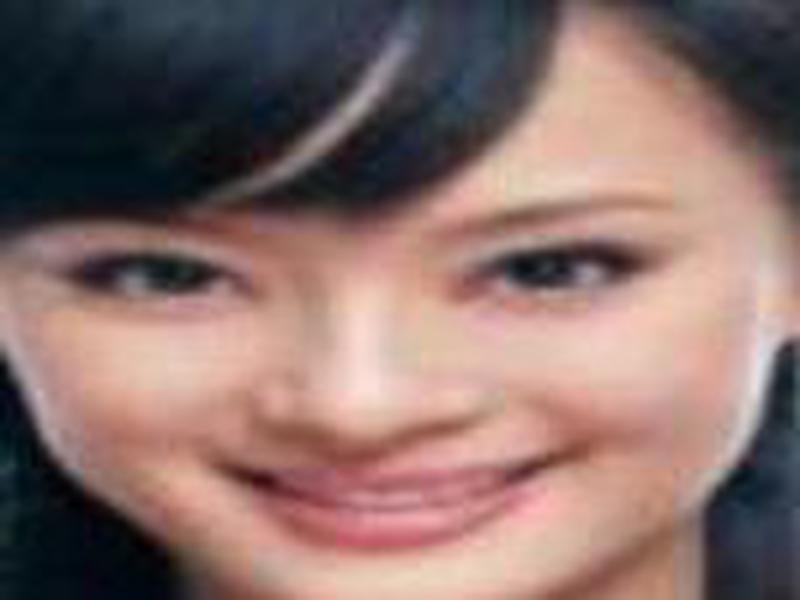without_mask: (4, 112, 774, 592)
